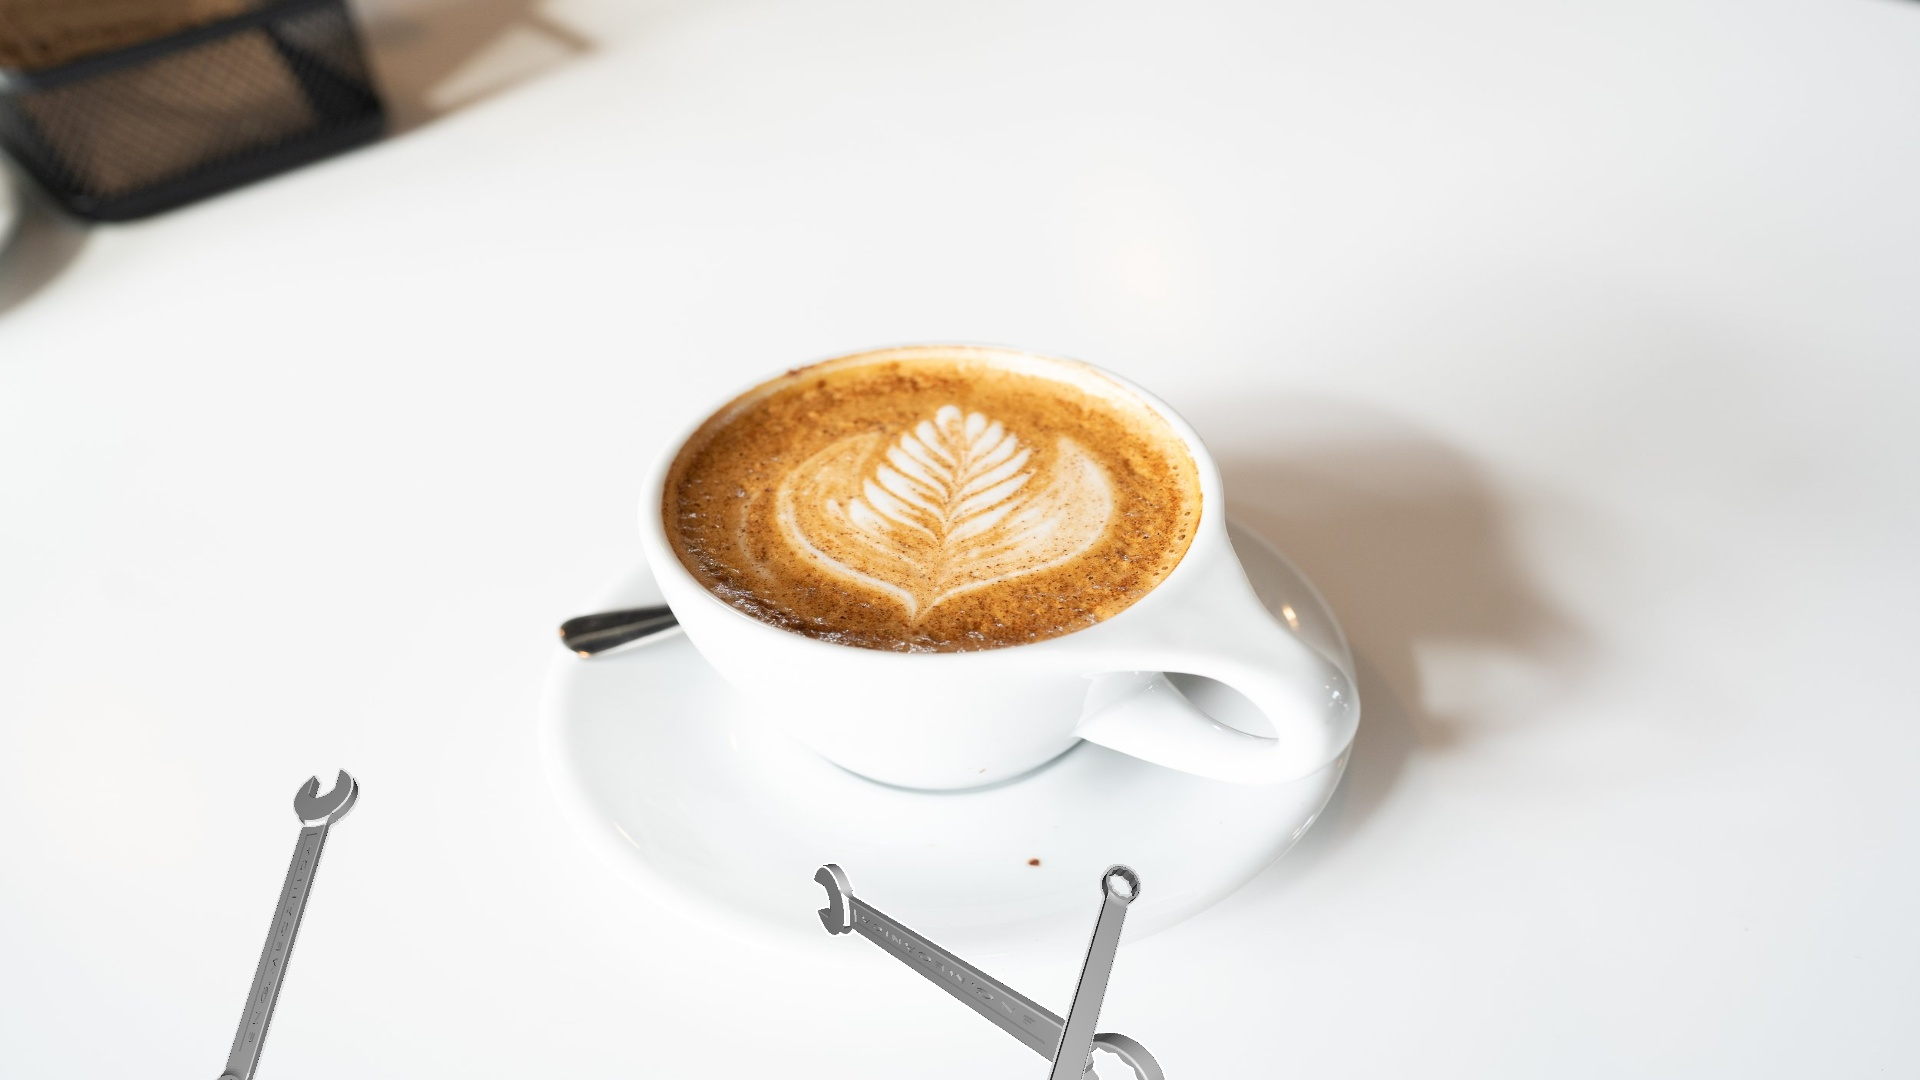Mixed Key: (814, 862, 1166, 1079), (215, 767, 359, 1079), (1047, 864, 1139, 1079)
